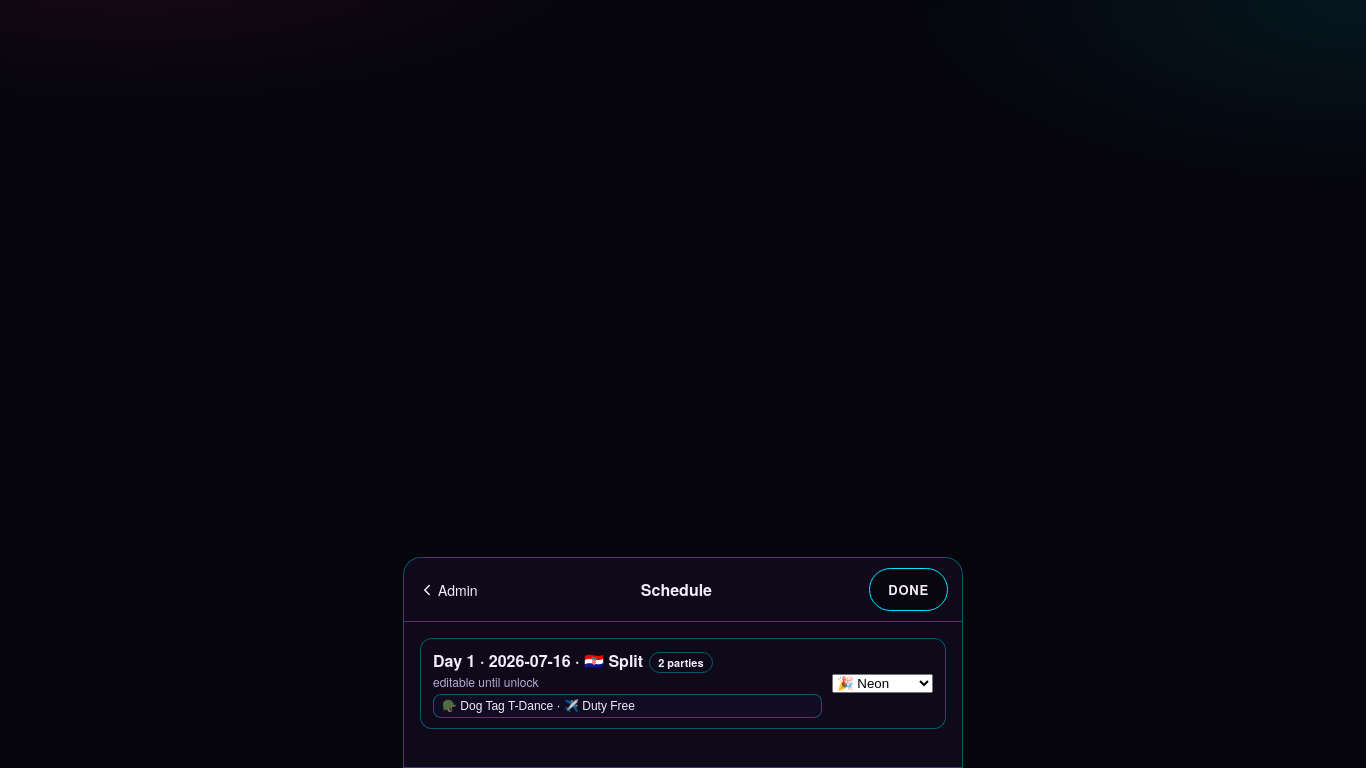
Test: Admin Schedule surface (specs/d15-admin-schedule.md, at /more/admin/schedule) › surfaces a failed Tonight save and restores the persisted line
Replace the text in the field named "Day 1 tonight" with "💦 Splash T-Dance · 🏋️ Get Sporty" at (628, 706), box [433,694,822,718]
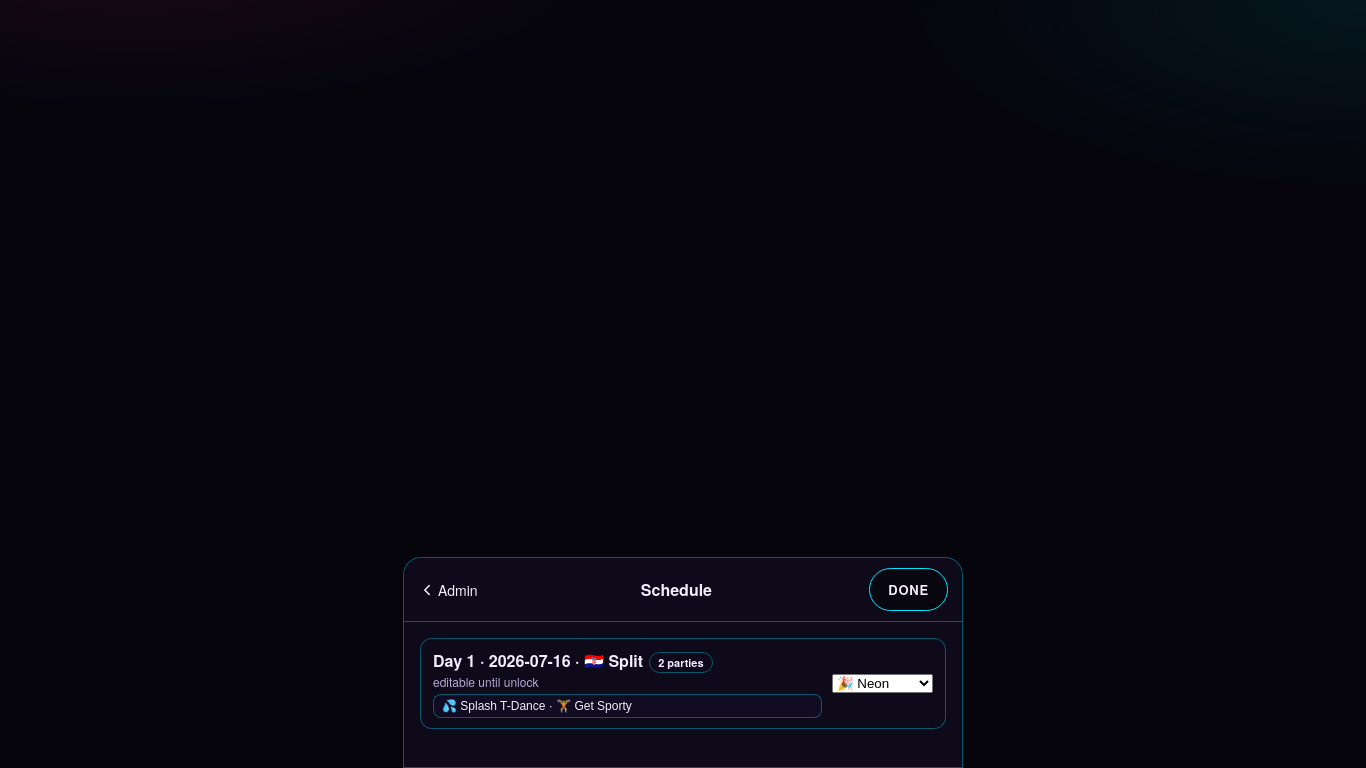
Leave the field named "Day 1 tonight", box [433,694,822,718]
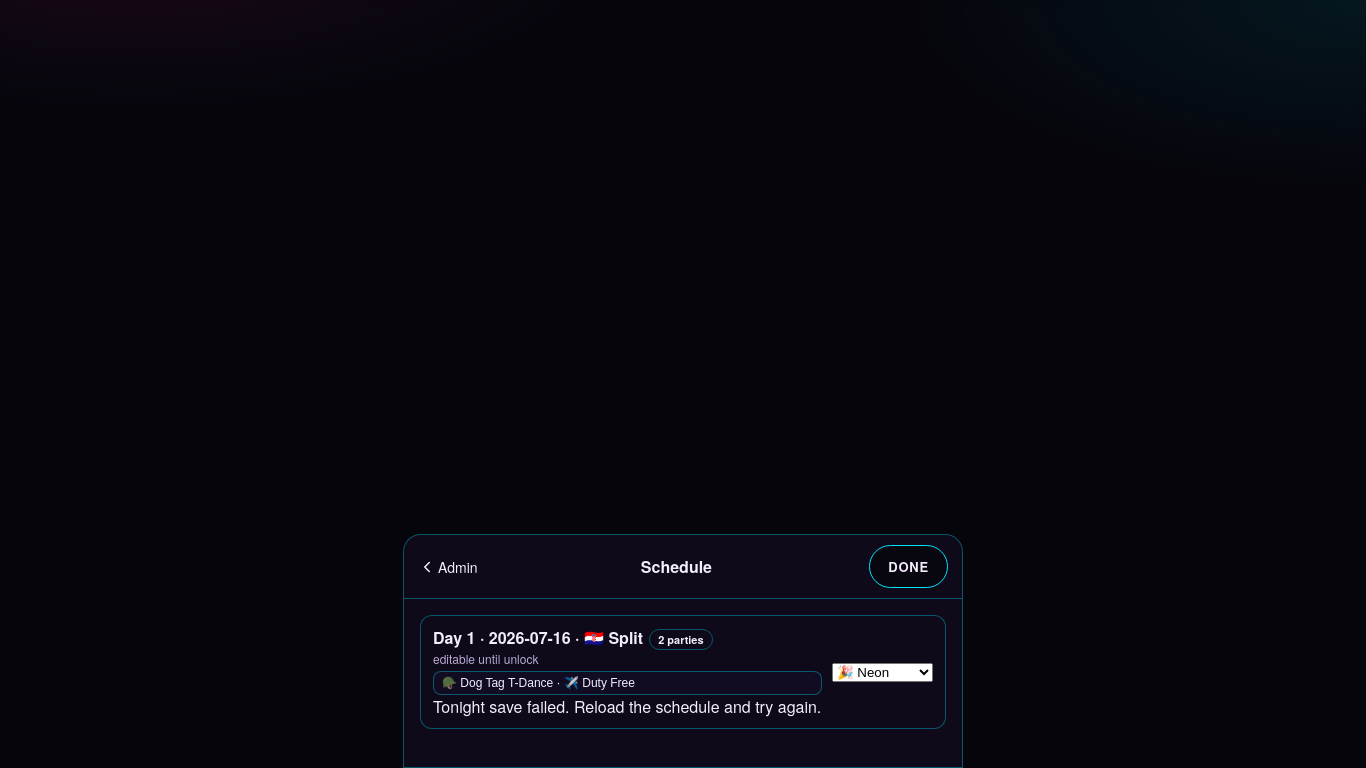
Check: the message shows "Tonight save failed.", box [433,695,821,718]
Check: the field named "Day 1 tonight" holds "🪖 Dog Tag T-Dance · ✈️ Duty Free", box [433,671,822,695]
